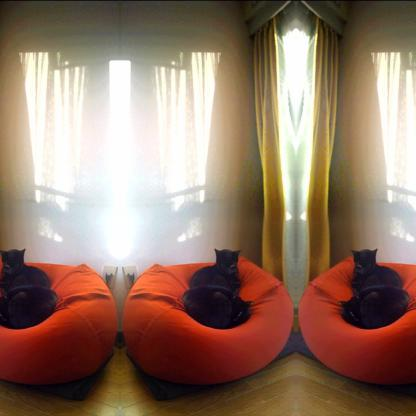Cat: (340, 285, 410, 329), (182, 285, 250, 329), (0, 285, 57, 330), (186, 248, 242, 292), (0, 247, 52, 293), (350, 248, 404, 292)
